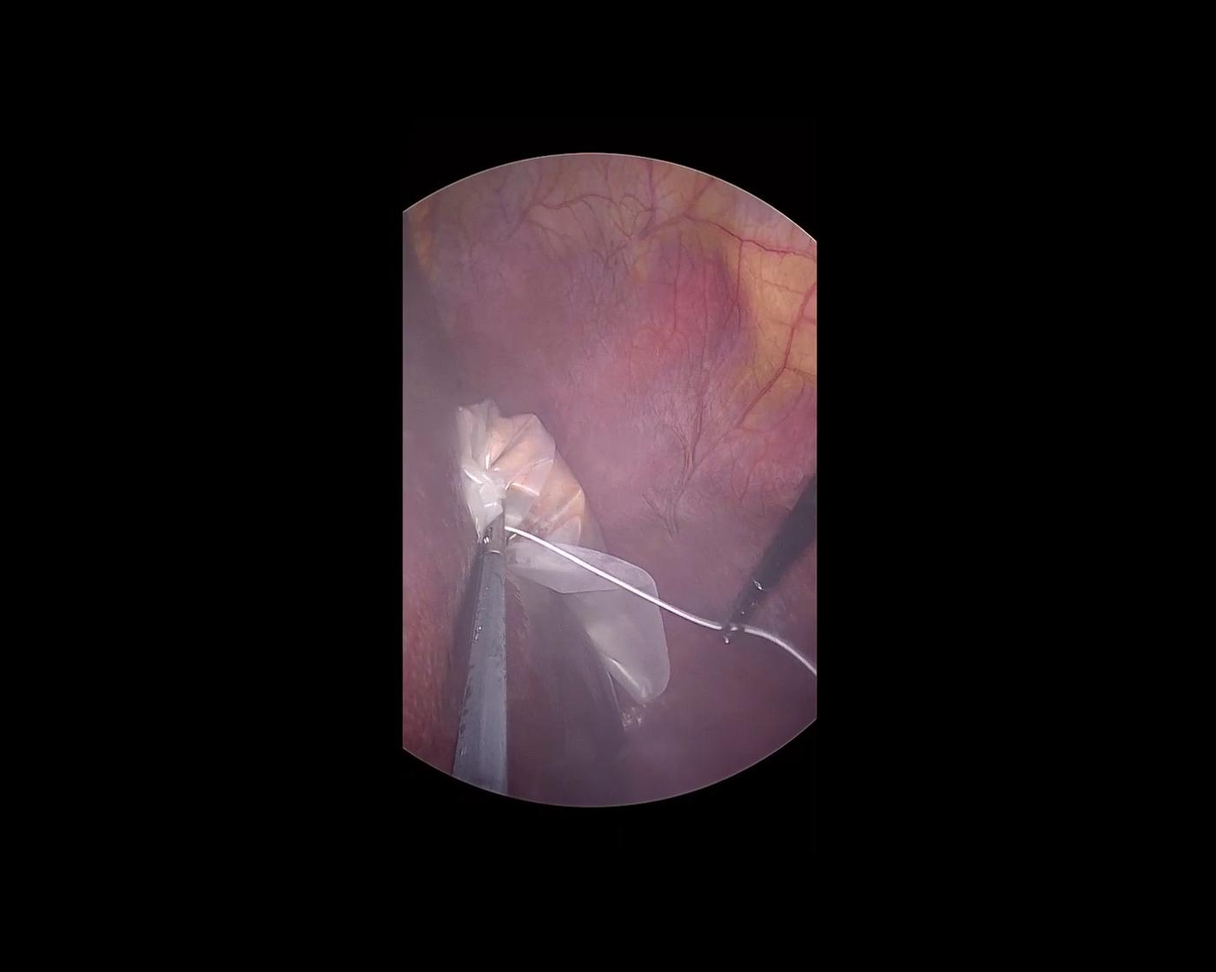Bag: (404, 370, 711, 731)
Forceps: (715, 475, 844, 658), (447, 508, 506, 796)
Liver: (296, 191, 635, 845)
